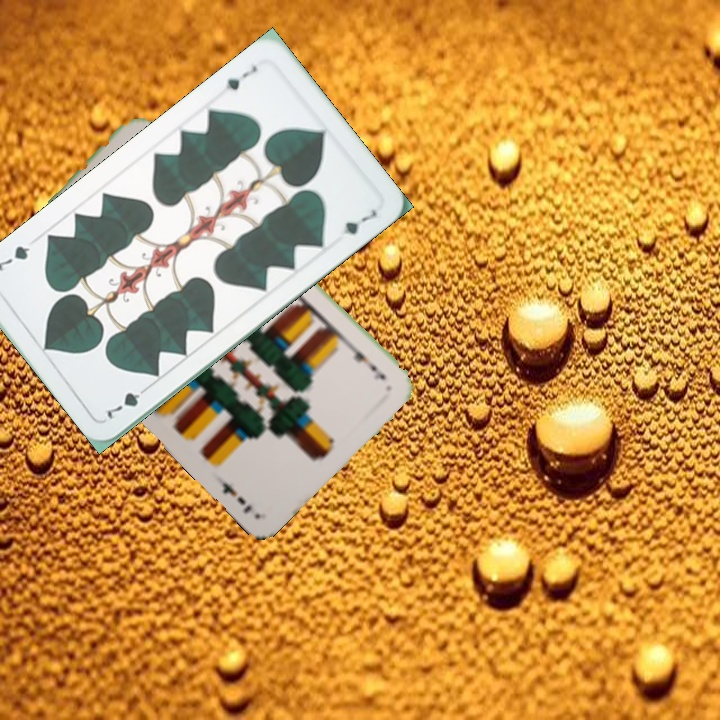E7: (348, 339, 388, 383)
G7: (99, 381, 153, 421), (215, 61, 260, 95)
